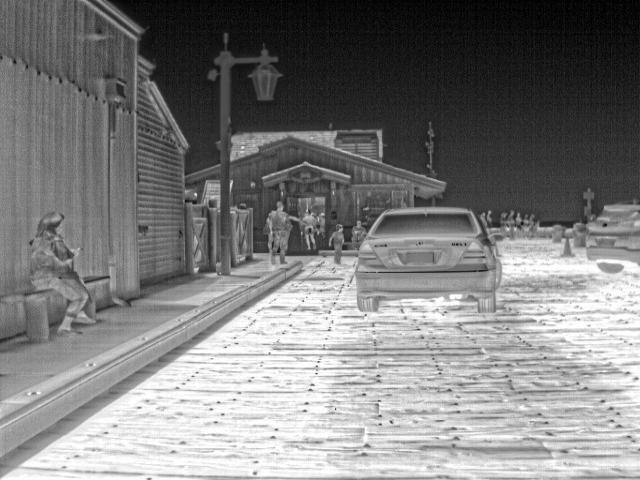car: (355, 206, 507, 315), (583, 196, 639, 275)
person: (24, 210, 96, 337), (264, 202, 292, 264), (300, 208, 320, 253), (327, 225, 347, 263), (350, 220, 367, 253), (513, 210, 526, 238), (505, 210, 517, 239)
